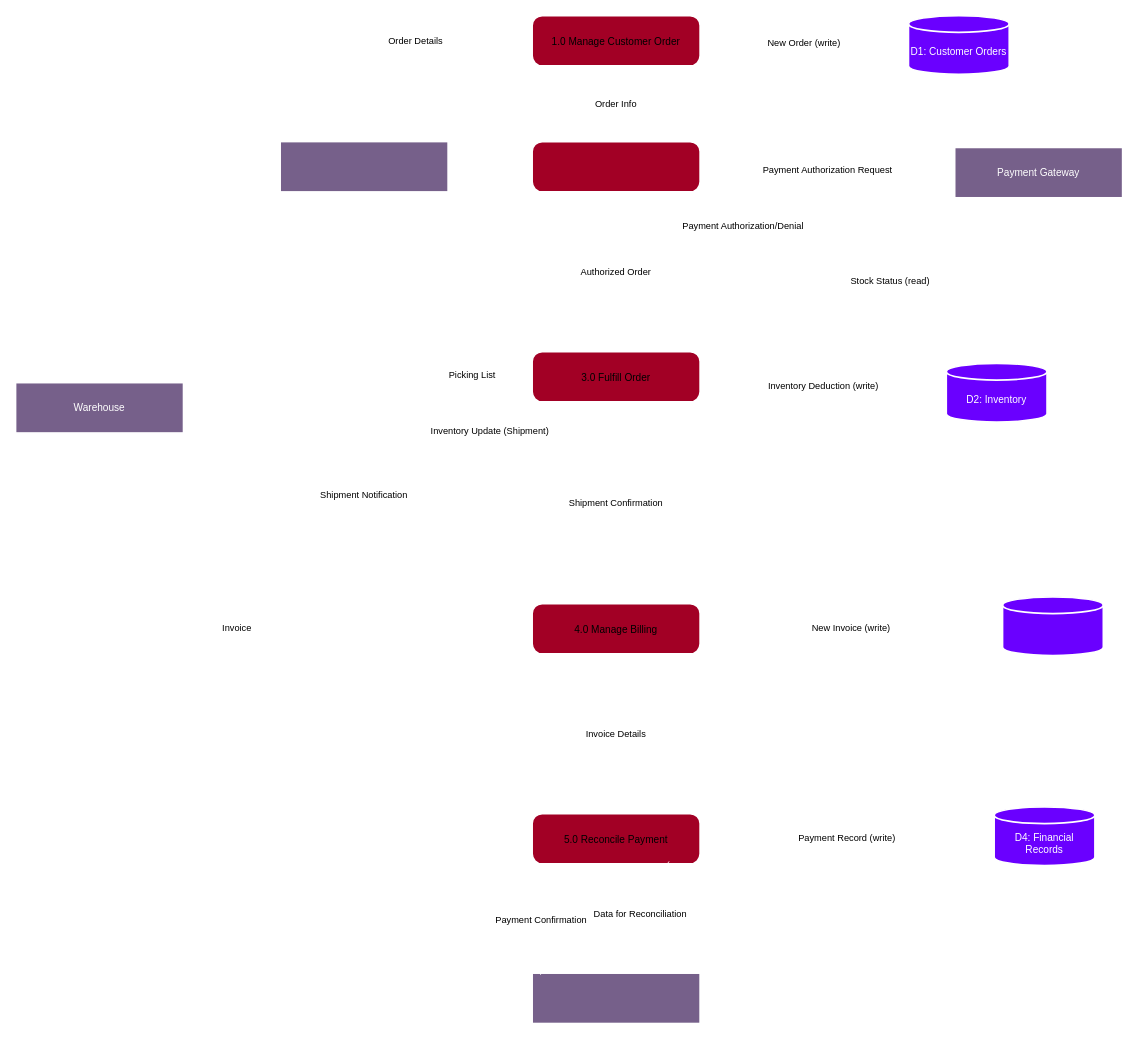
Image size: 1137x1038. Some labels were removed from this diagram. Here are the shapes that lost their labels. From the top down, the centre of each, then its label:
point (364, 166): Customer
point (616, 166): 2.0 Process Payment
point (1052, 626): D3: Invoices
point (616, 998): Finance Department
